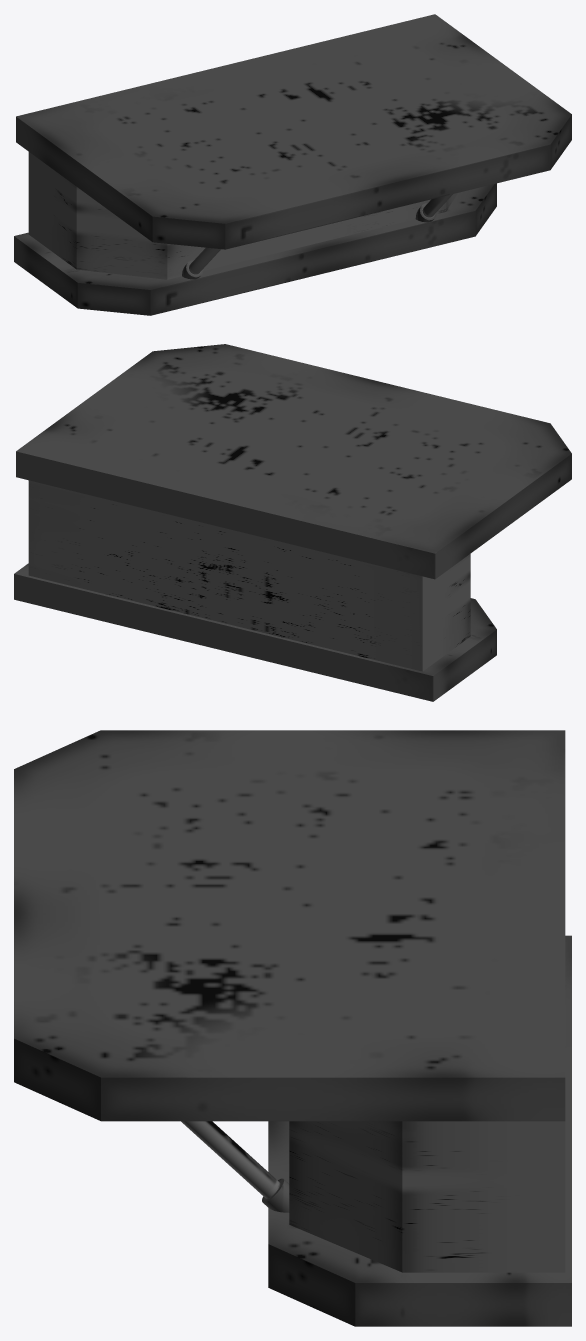
Rendered from Platform_2x3_Cap_Suspended_V1.fbx.
The picture shows the model from 3 angles, top to bottom: view 1: azimuth 30°, elevation 25°; view 2: azimuth 150°, elevation 25°; view 3: azimuth 270°, elevation 25°; orthographic projection. The views are drawn at different scales.
Visible parts, largest first — view 1: Platform 2x3 Cap Suspended V1; view 2: Platform 2x3 Cap Suspended V1; view 3: Platform 2x3 Cap Suspended V1.
Boxes of the visible parts, box(x1,y1,x2,y2) form: Platform 2x3 Cap Suspended V1: box(14, 14, 571, 315); Platform 2x3 Cap Suspended V1: box(14, 344, 571, 701); Platform 2x3 Cap Suspended V1: box(14, 730, 571, 1326).
Size of the model in its own units: 298 by 99.85 by 203.
